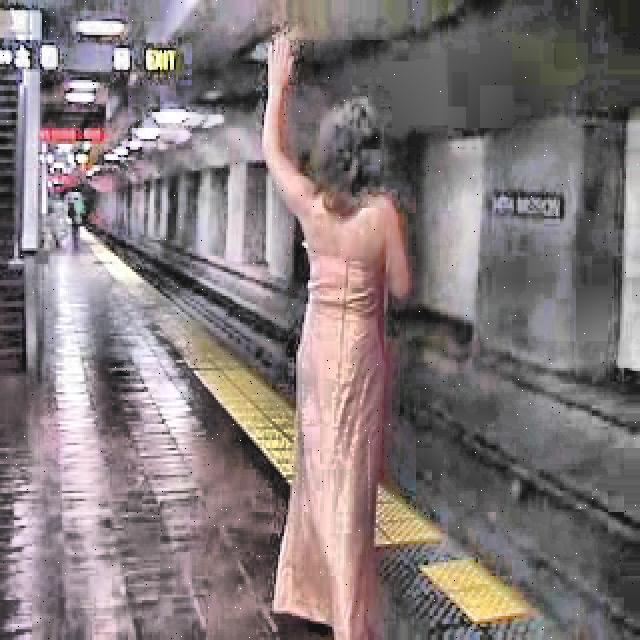L: (249, 31, 419, 632)
